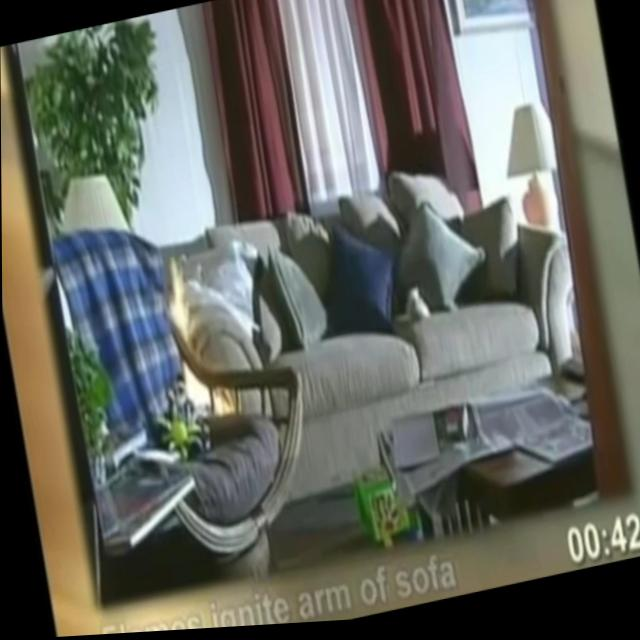fire: (158, 252, 229, 425)
